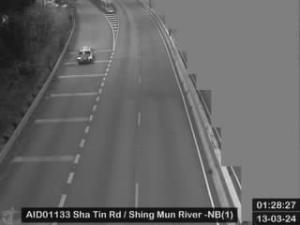bus: (102, 1, 114, 14)
vehicle: (76, 46, 94, 64)
